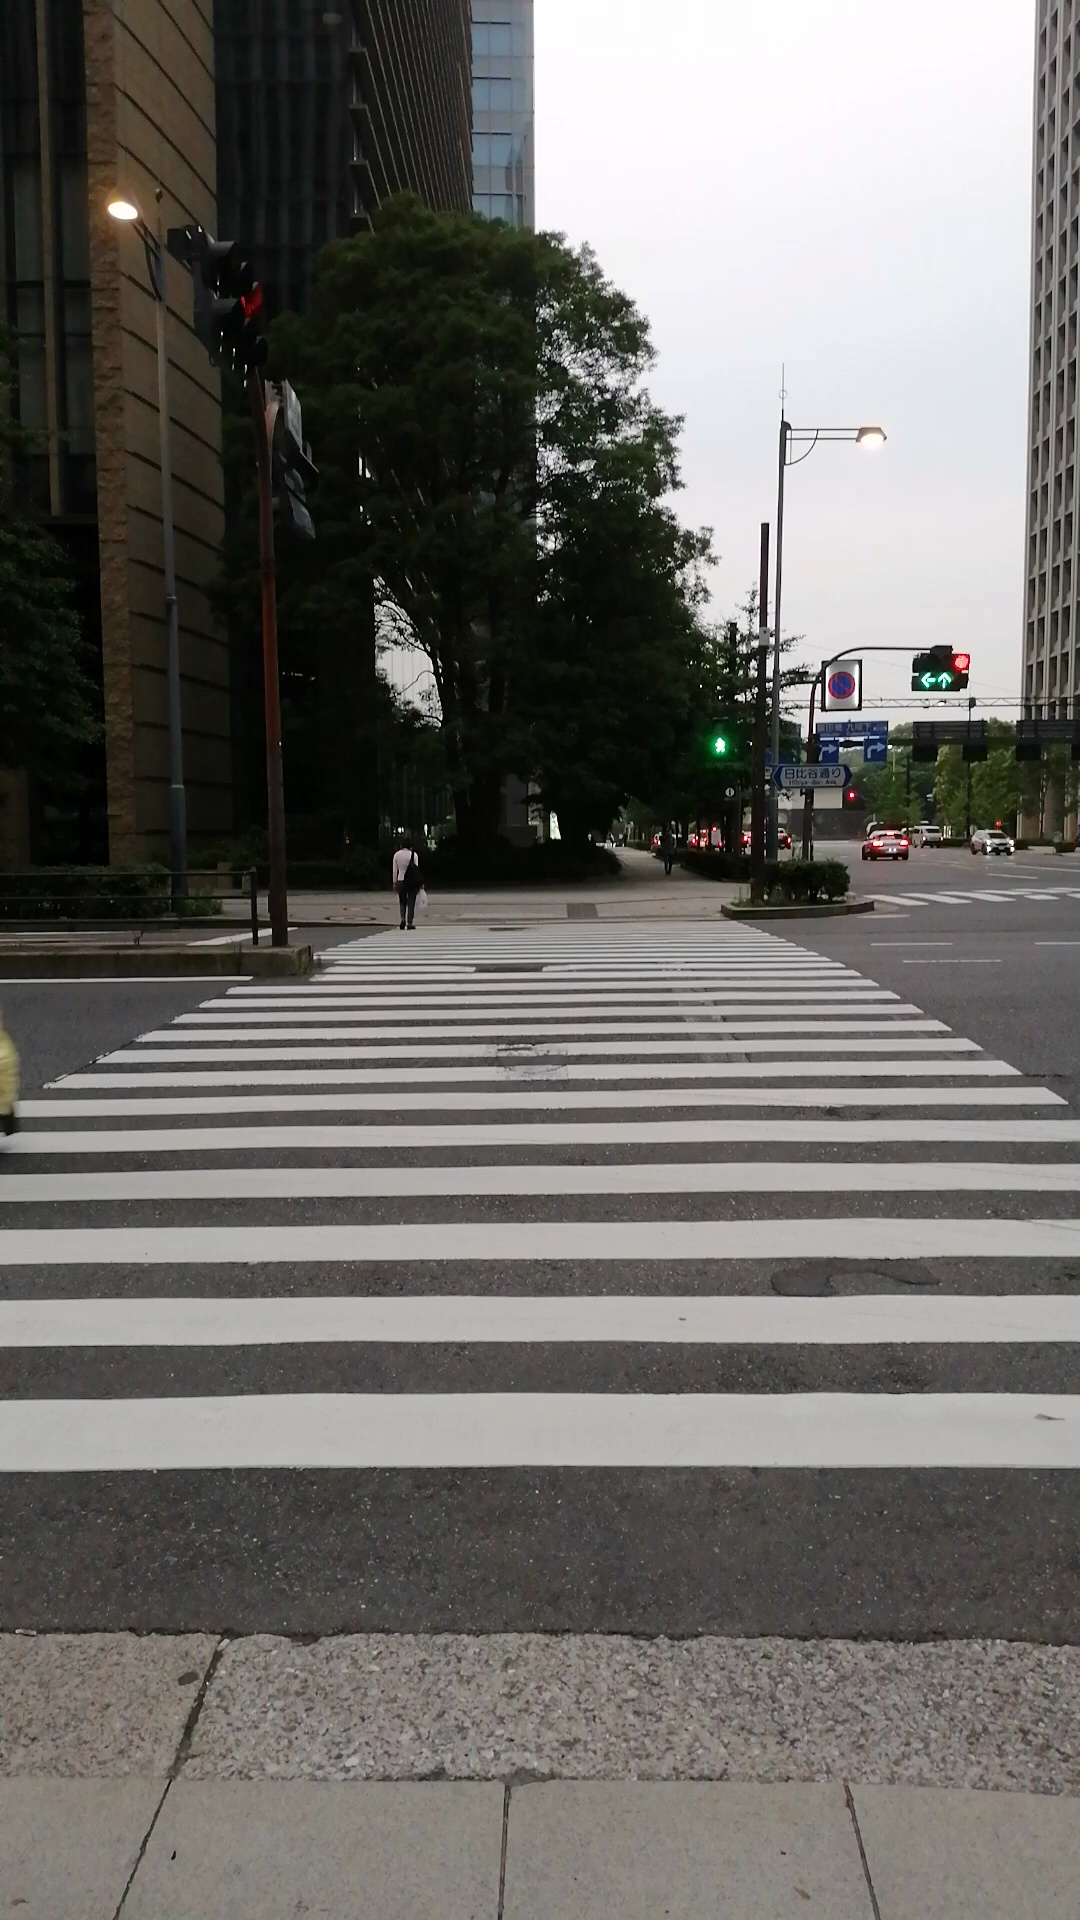green: (705, 717, 733, 761)
